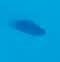smallfish: (6, 10, 54, 45)
